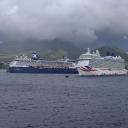cruises: (9, 53, 80, 76), (76, 48, 127, 78)
